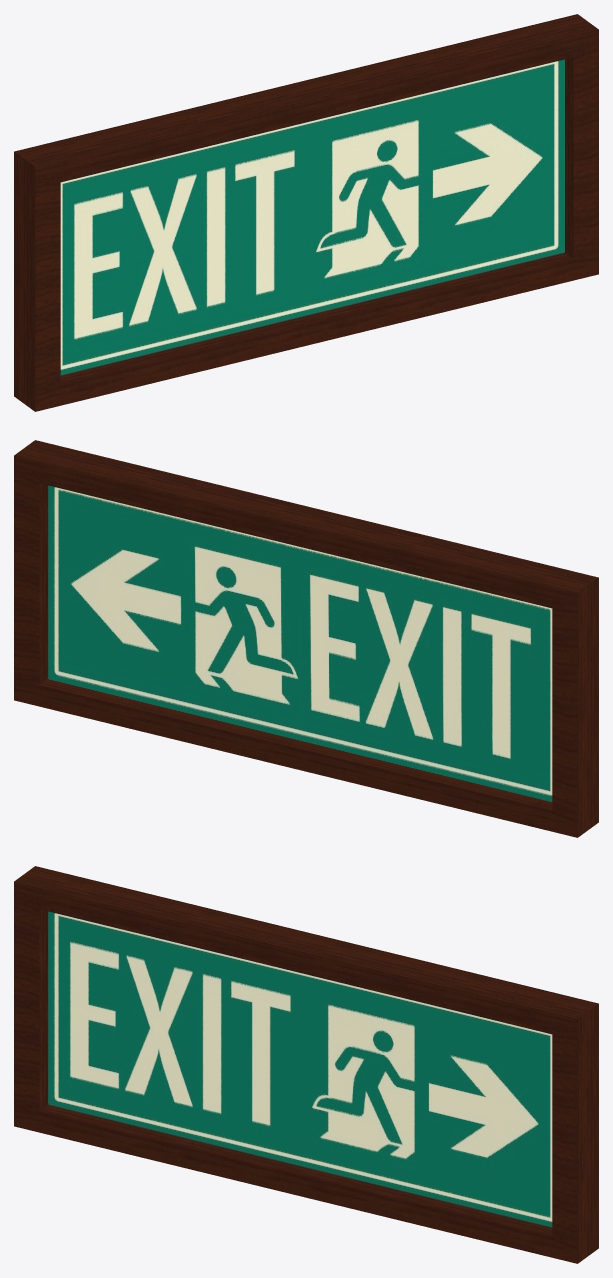
The model's file is library-maze-exit-sign-green-baked-1024.glb.
3 views of the same model, one above another, from view 1: azimuth 30°, elevation 25°; view 2: azimuth 150°, elevation 25°; view 3: azimuth 330°, elevation 25° (orthographic).
Parts seen in each view (by area): view 1: exit-sign_Baked; view 2: exit-sign_Baked; view 3: exit-sign_Baked.
Boxes of the visible parts, left/top/right/bottom form: exit-sign_Baked: left=14, top=14, right=598, bottom=411; exit-sign_Baked: left=14, top=440, right=598, bottom=837; exit-sign_Baked: left=14, top=866, right=598, bottom=1263.
Bounding box in the file's own units: 2.44 × 1.01 × 0.1593.
1 material, 1 textured.
